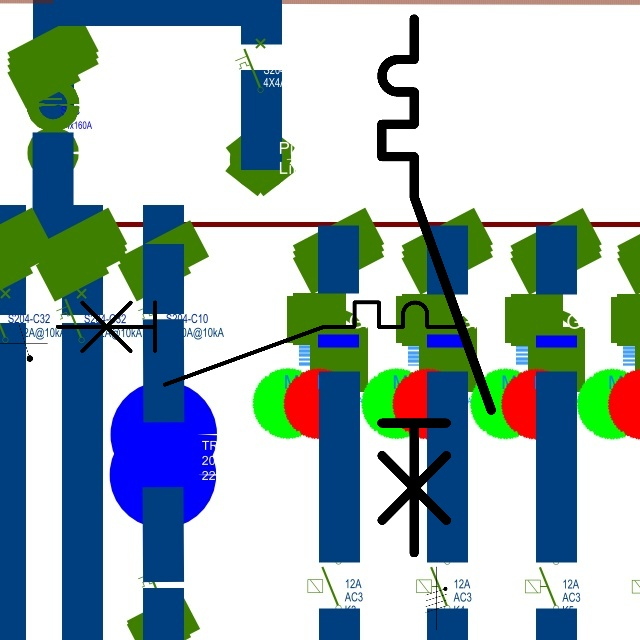interruptor_termomagnetico: (368, 5, 505, 566), (47, 292, 467, 395)
